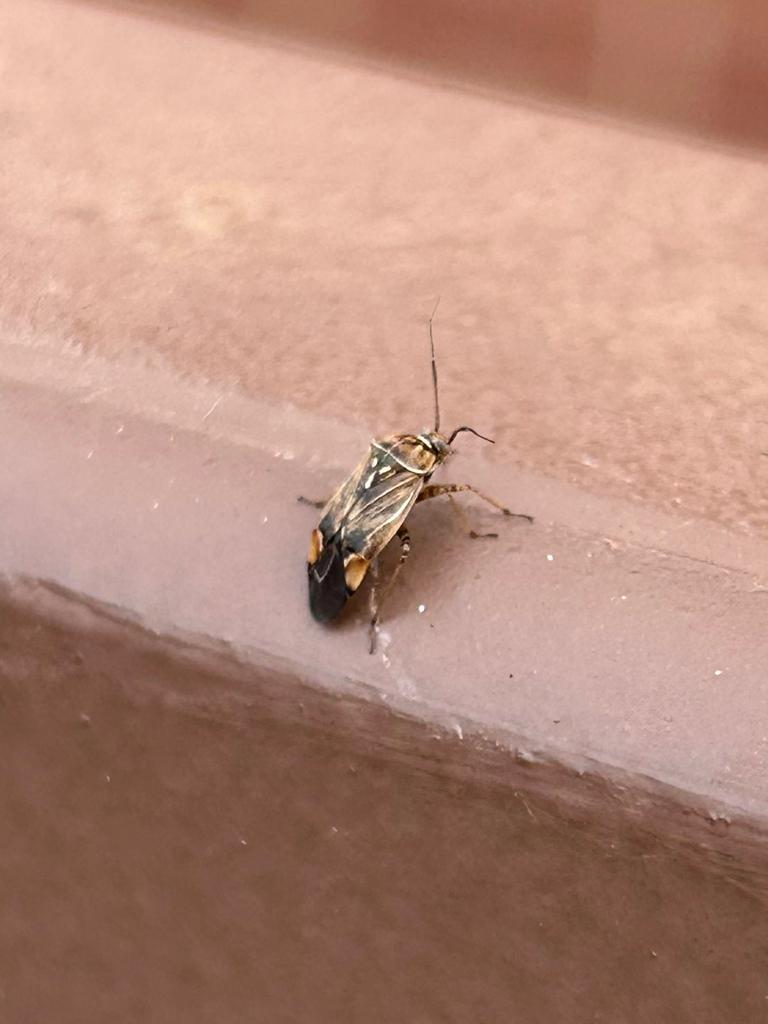plant_bugs: (261, 281, 562, 723)
